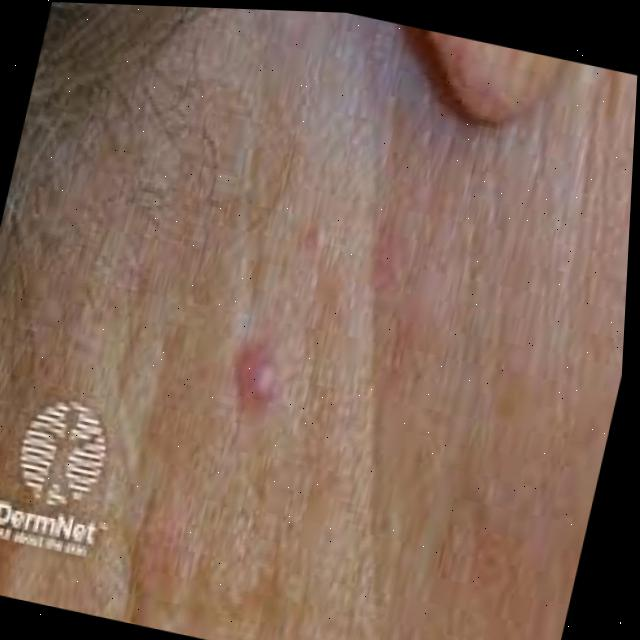Eczema: (218, 328, 297, 415)
